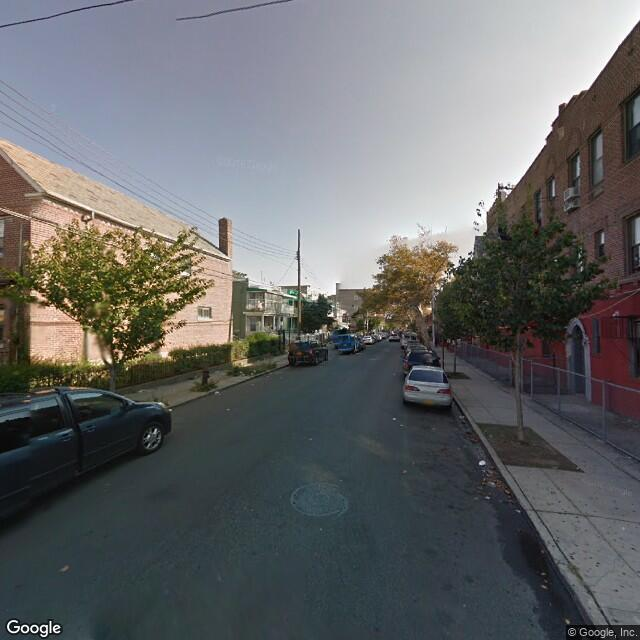litter: (539, 570, 549, 593), (59, 563, 71, 573), (474, 459, 489, 466), (457, 412, 470, 420), (486, 480, 498, 487), (397, 421, 406, 430), (562, 616, 573, 623), (136, 388, 151, 393), (237, 370, 255, 374), (516, 508, 526, 515), (308, 436, 317, 443), (401, 468, 409, 475), (390, 414, 399, 419), (214, 367, 221, 373), (485, 494, 490, 502), (620, 525, 629, 529), (213, 390, 222, 393), (225, 406, 232, 407)
